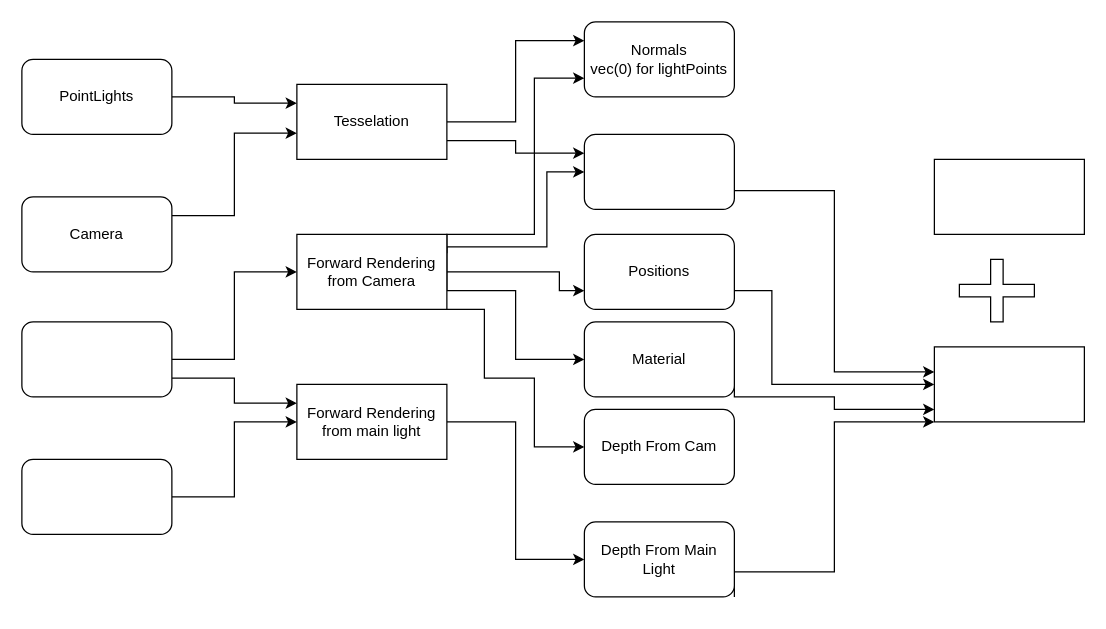
Some shapes in this 1106 by 629 pixel diagram are drawn without their labels. Here are the shapes that lost their labels. From the top down, the centre of each, then its label:
At point (658, 171): "Colors".
At point (1008, 196): "PointLights Rendering".
At point (96, 359): "Obj scene".
At point (1008, 384): "Main Light Rendering".
At point (96, 496): "Main Light".
